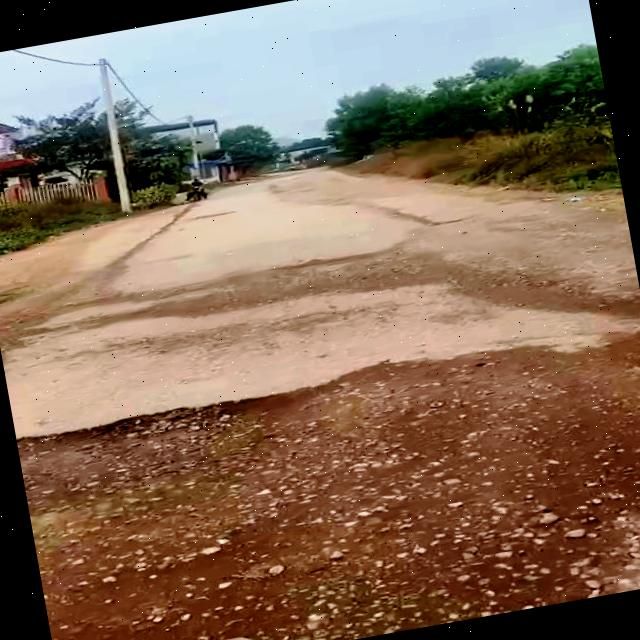pothole: (14, 364, 400, 558)
